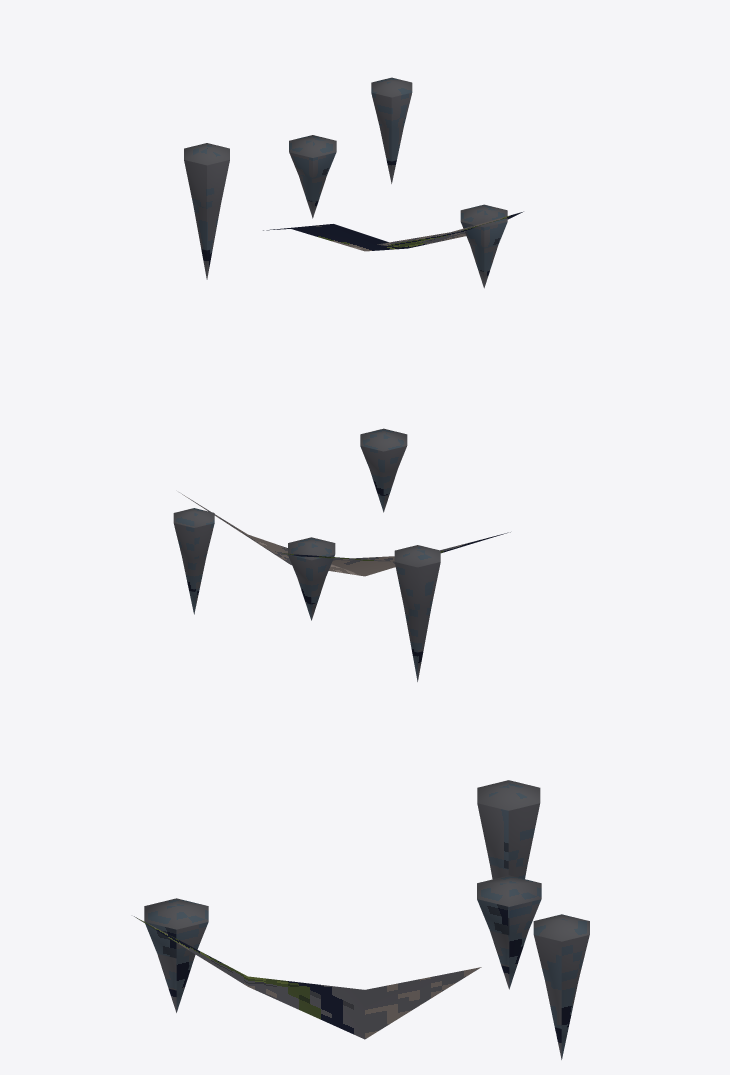
Rendered from cave.ceiling.glb.
3 views of the same model, one above another, from view 1: azimuth 30°, elevation 25°; view 2: azimuth 150°, elevation 25°; view 3: azimuth 270°, elevation 25° (orthographic). The views are drawn at different scales.
Parts seen in each view (by area): view 1: kit_stalactites, kit_shell_ceiling; view 2: kit_stalactites, kit_shell_ceiling; view 3: kit_stalactites, kit_shell_ceiling.
Part boxes in pixels (left/top/right/bottom): kit_stalactites: left=184, top=77, right=507, bottom=288; kit_shell_ceiling: left=263, top=211, right=523, bottom=251; kit_stalactites: left=173, top=428, right=440, bottom=681; kit_shell_ceiling: left=179, top=492, right=510, bottom=576; kit_stalactites: left=144, top=780, right=589, bottom=1059; kit_shell_ceiling: left=134, top=916, right=481, bottom=1039.
Size of the model in its own units: 4 by 1.16 by 4.
Materials: 2 (2 with a texture image).
